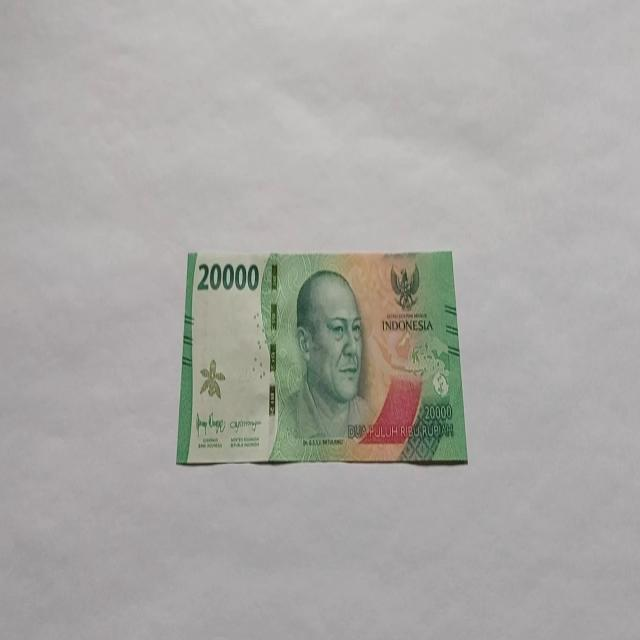dua puluh ribu rupiah: (176, 248, 468, 467)
